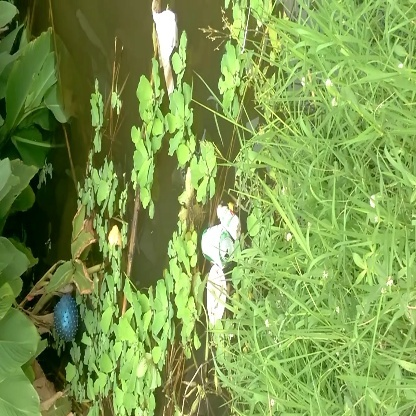ball: (48, 295, 86, 343)
bottle: (190, 221, 241, 266)
branch: (115, 193, 145, 313)
